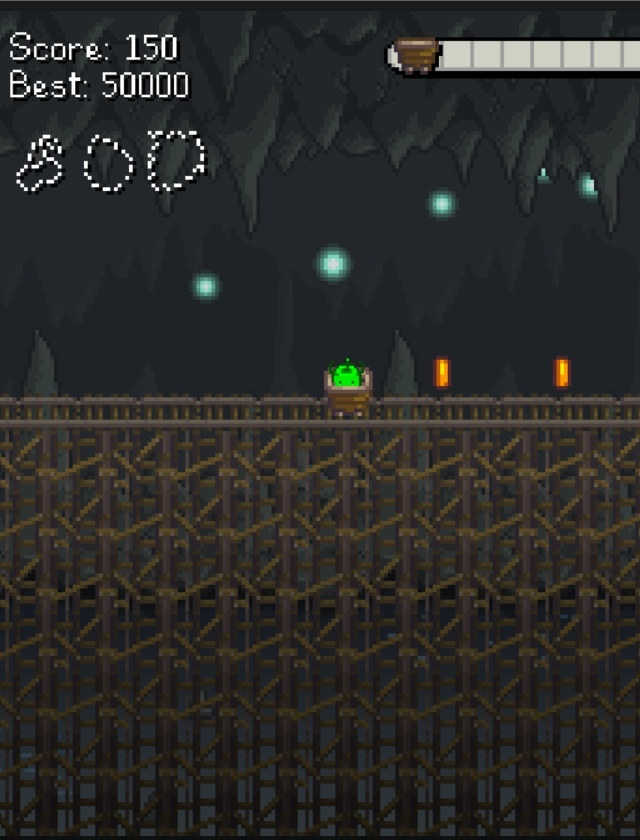coins: (434, 357, 450, 389), (554, 357, 570, 388)
minecart: (325, 359, 371, 416), (327, 371, 371, 414)
tracks: (0, 388, 299, 430), (391, 391, 640, 434)
